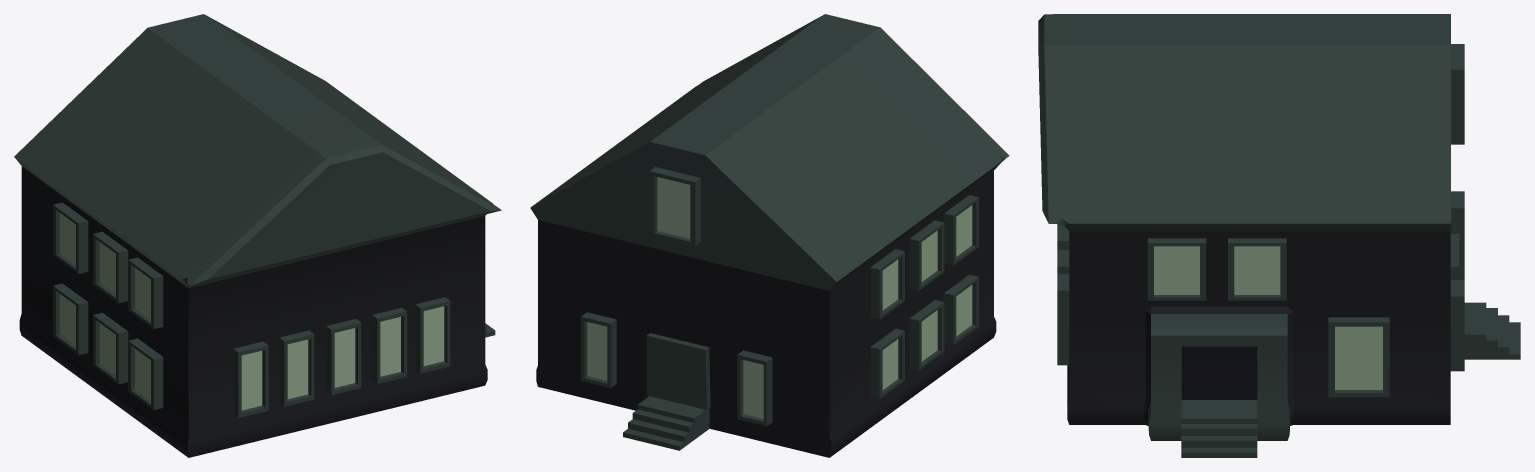
File: Clean_suburb_2.FBX
3 renders of one model, left to right at view 1: azimuth 30°, elevation 25°; view 2: azimuth 150°, elevation 25°; view 3: azimuth 270°, elevation 25°, orthographic. The views are drawn at different scales.
Parts seen in each view (by area): view 1: Box018, Box019; view 2: Box018, Box019; view 3: Box018, Box019.
Boxes of the visible parts, <box> form: Box018: <box>14,14,501,457</box>; Box019: <box>53,202,450,417</box>; Box018: <box>530,14,1009,457</box>; Box019: <box>581,167,978,426</box>; Box018: <box>1038,14,1520,457</box>; Box019: <box>1057,44,1464,397</box>.
Size of the model in its own units: 5.54 by 4.01 by 5.54.
